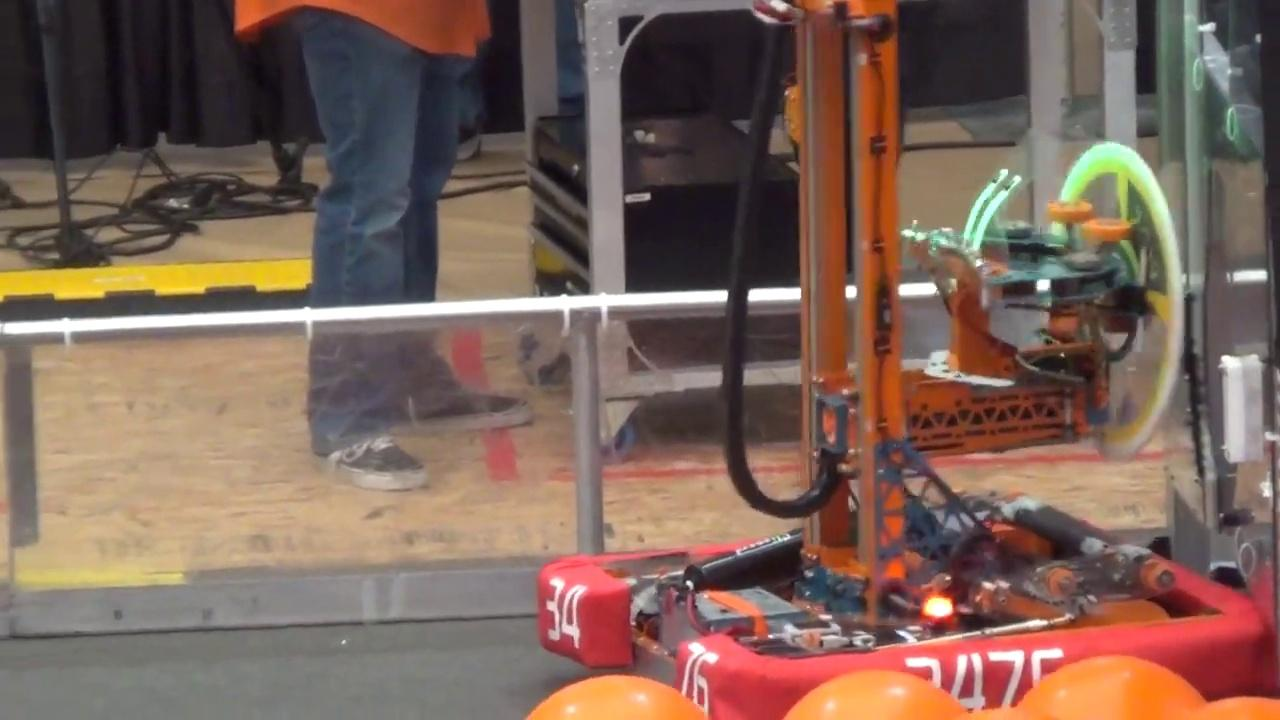robot: (537, 0, 1280, 720)
